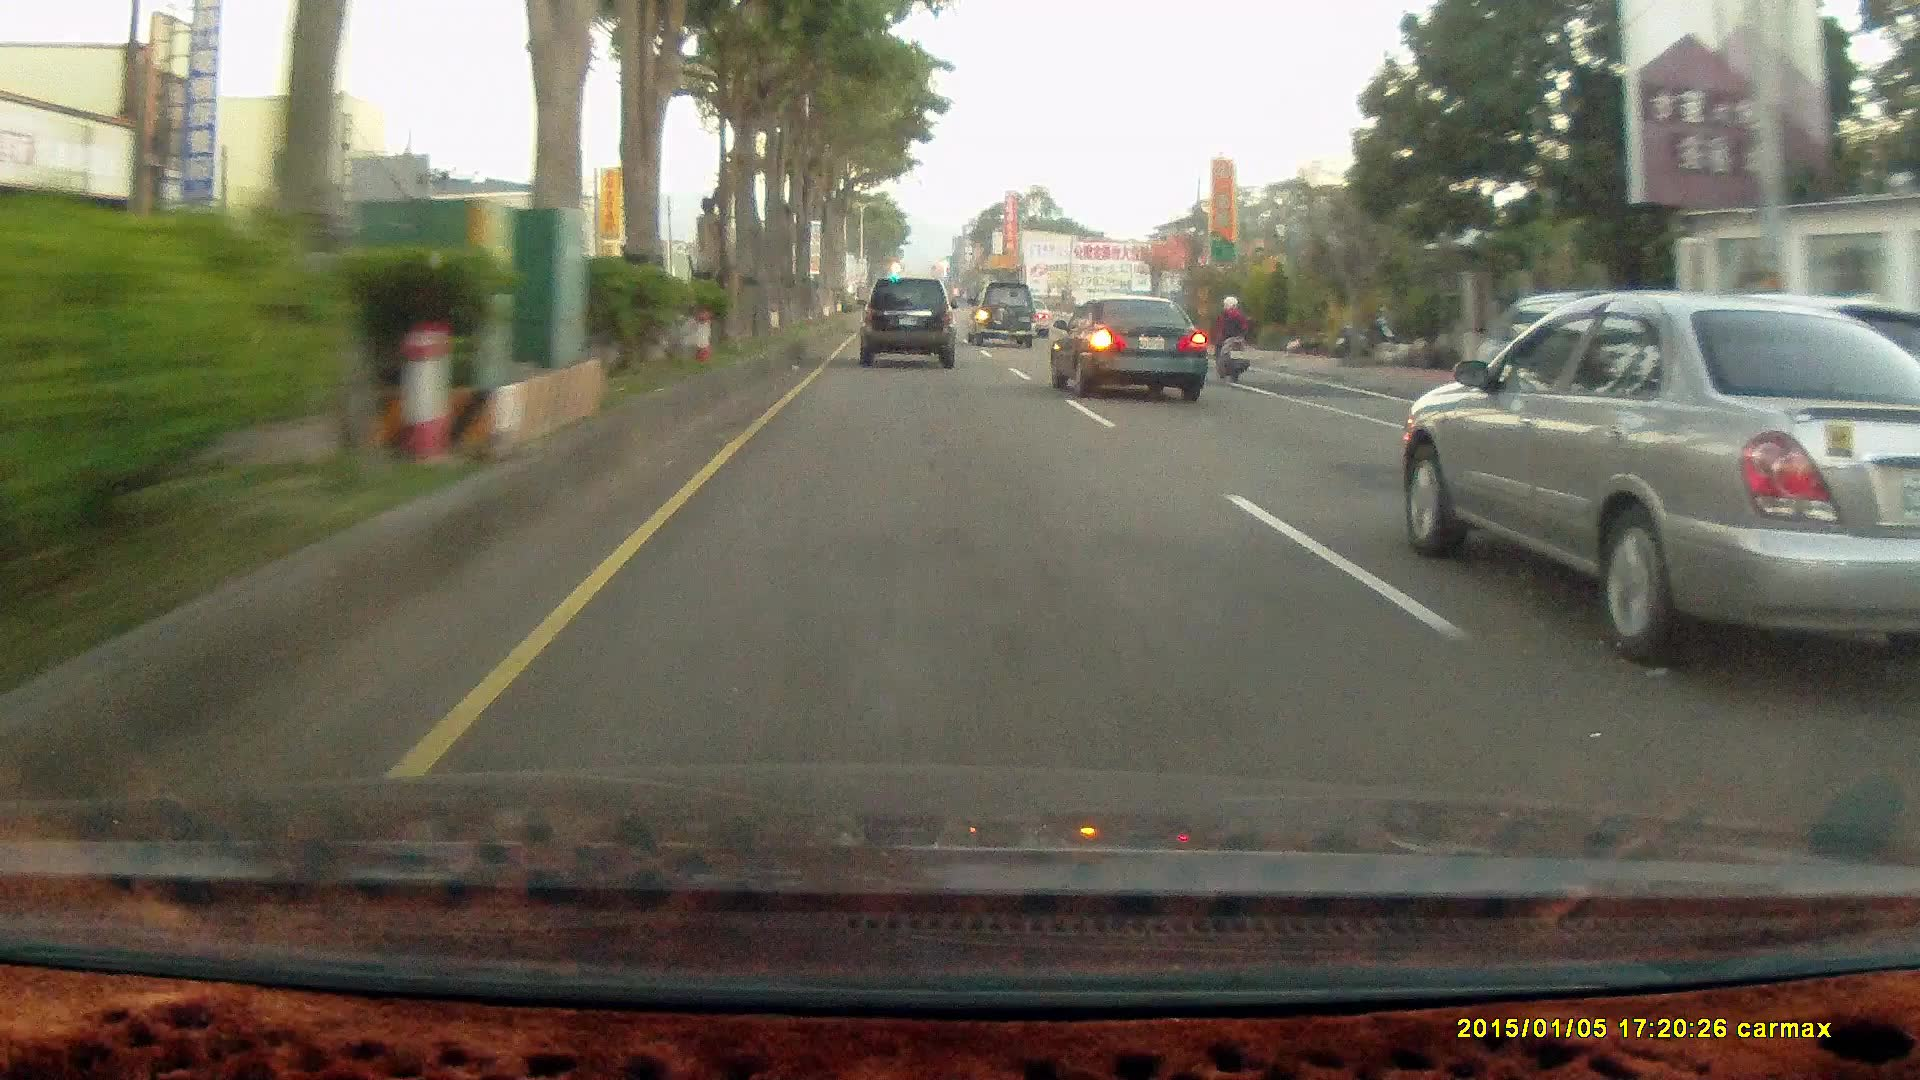rider: (1203, 287, 1258, 388), (1208, 289, 1253, 382)
vehicle: (1401, 291, 1920, 669), (1468, 286, 1680, 407), (1468, 287, 1680, 393), (1048, 293, 1207, 401), (1054, 297, 1214, 400), (861, 280, 962, 371), (852, 275, 952, 367), (966, 280, 1038, 350), (966, 280, 1038, 347)
